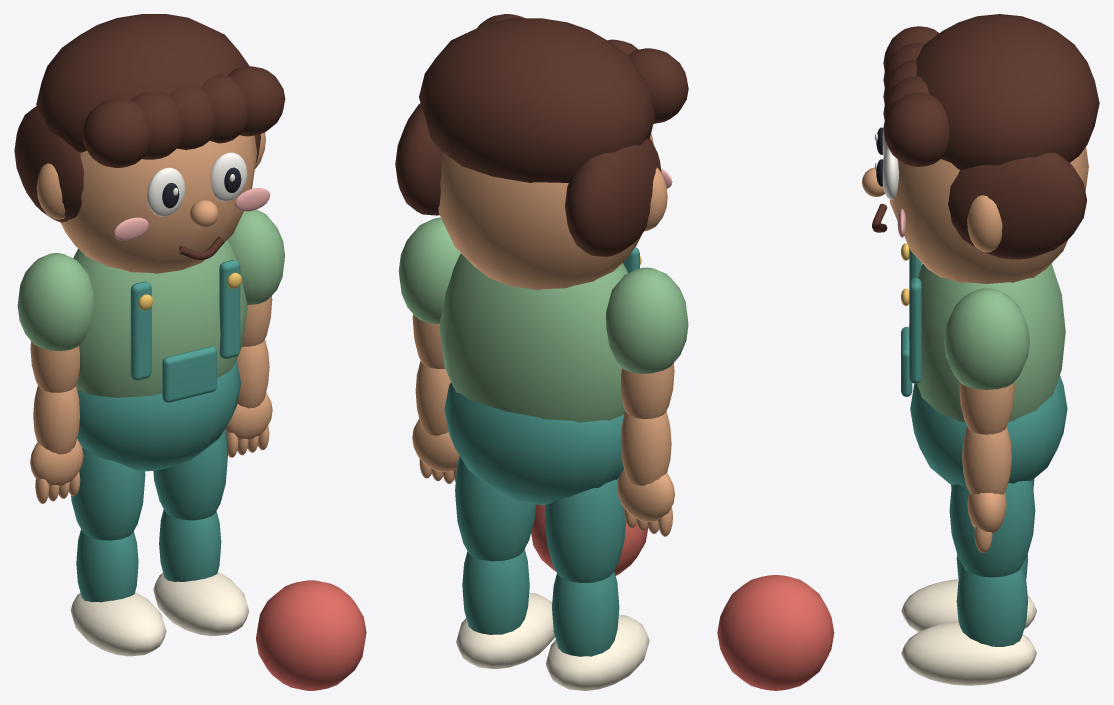
File: daddy-kick.glb
The picture shows the model from 3 angles, left to right: view 1: azimuth 30°, elevation 25°; view 2: azimuth 150°, elevation 25°; view 3: azimuth 270°, elevation 25°; orthographic projection. The views are drawn at different scales.
Visible parts, largest first — view 1: hair cap, clay head, soft shirt, overalls, soft ball, shirt sleeve, trouser leg, little shoe, little shoe.001, bob hair, trouser leg.001, fringe (+22 smaller); view 2: hair cap, soft shirt, clay head, overalls, bob hair, shirt sleeve, trouser leg, trouser leg.001, lower leg.001, lower leg, shirt sleeve.001, little shoe (+11 smaller); view 3: hair cap, soft shirt, soft ball, bob hair.001, clay head, shirt sleeve.001, overalls, little shoe.001, trouser leg.001, lower leg.001, fringe.004, forearm.001 (+10 smaller).
Part boxes in pixels (x1,y1,x2,y2): hair cap: (36,14,249,152); clay head: (60,135,257,273); soft shirt: (73,240,247,397); overalls: (77,360,241,471); soft ball: (256,580,366,690); shirt sleeve: (17,253,93,351); trouser leg: (71,448,145,540); little shoe: (70,592,166,656); little shoe.001: (153,572,249,636); bob hair: (14,106,83,222); trouser leg.001: (153,429,227,520); fringe: (82,98,149,167); hair cap: (419,18,655,182); soft shirt: (439,253,628,422); clay head: (438,133,653,289); overalls: (444,382,623,505); bob hair: (565,138,661,256); shirt sleeve: (606,267,688,373); trouser leg: (544,476,625,582); trouser leg.001: (455,456,535,561); lower leg.001: (462,549,529,634); lower leg: (552,571,619,656); shirt sleeve.001: (398,217,460,323); little shoe: (545,614,649,690); hair cap: (916,14,1099,169); soft shirt: (908,263,1065,422); soft ball: (717,575,834,690); bob hair.001: (948,152,1086,259); clay head: (888,147,1088,283); shirt sleeve.001: (944,288,1029,389); overalls: (910,375,1067,486); little shoe.001: (901,621,1036,685); trouser leg.001: (949,481,1035,577); lower leg.001: (956,566,1028,646); fringe.004: (883,92,949,166); forearm.001: (962,427,1011,494).
Size of the model in its own units: 0.957 by 2.14 by 1.18.
